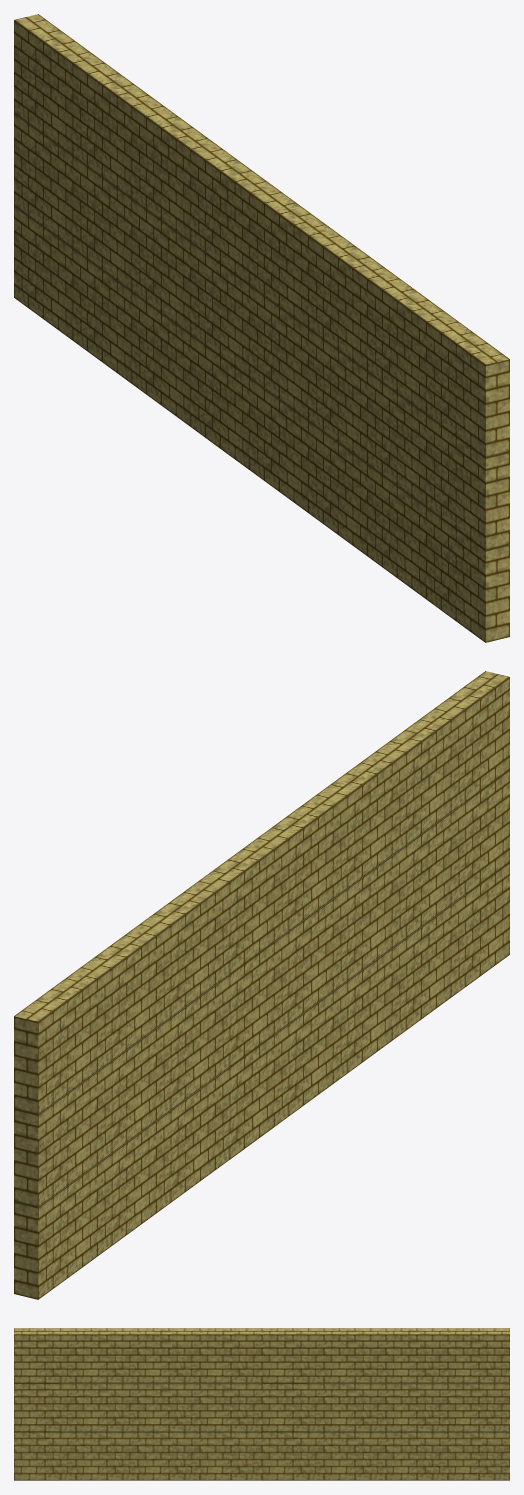
File: MuroReto.fbx
3 views of the same model, one above another, from view 1: azimuth 30°, elevation 25°; view 2: azimuth 150°, elevation 25°; view 3: azimuth 270°, elevation 25° (orthographic). The views are drawn at different scales.
Parts seen in each view (by area): view 1: MuroReto; view 2: MuroReto; view 3: MuroReto.
Part boxes in pixels (x1,y1,x2,y2): MuroReto: [14, 14, 509, 642]; MuroReto: [14, 671, 509, 1299]; MuroReto: [14, 1328, 509, 1480].
Bounding box in the file's own units: 53.78 × 585 × 1800.
